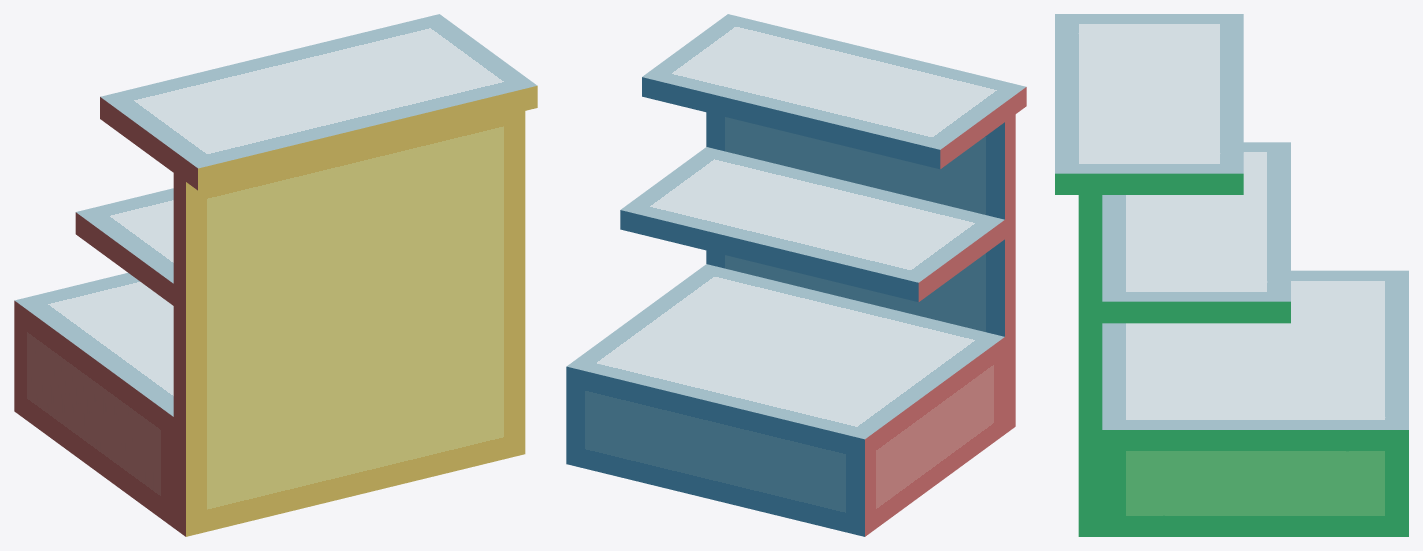
File: glass_storage.fbx
The picture shows the model from 3 angles, left to right: view 1: azimuth 30°, elevation 25°; view 2: azimuth 150°, elevation 25°; view 3: azimuth 270°, elevation 25°; orthographic projection. The views are drawn at different scales.
Visible parts, largest first — view 1: bar-front, bar-top, cabinet, cube; view 2: cabinet, bar-top, cube, bar-front; view 3: cabinet, bar-top, cube, bar-front.
Boxes of the visible parts, bbox=[...] form: bar-front: bbox=[173, 111, 525, 536]; bar-top: bbox=[100, 14, 537, 190]; cabinet: bbox=[14, 273, 173, 527]; cube: bbox=[75, 188, 173, 305]; cabinet: bbox=[566, 264, 1004, 536]; bar-top: bbox=[642, 14, 1026, 169]; cube: bbox=[620, 147, 1004, 302]; bar-front: bbox=[706, 112, 1015, 433]; cabinet: bbox=[1102, 270, 1408, 536]; bar-top: bbox=[1055, 14, 1243, 194]; cube: bbox=[1102, 142, 1290, 323]; bar-front: bbox=[1078, 195, 1102, 536].
Size of the model in its own units: 200 by 212 by 188.
Materials: 3 (3 with a texture image).
